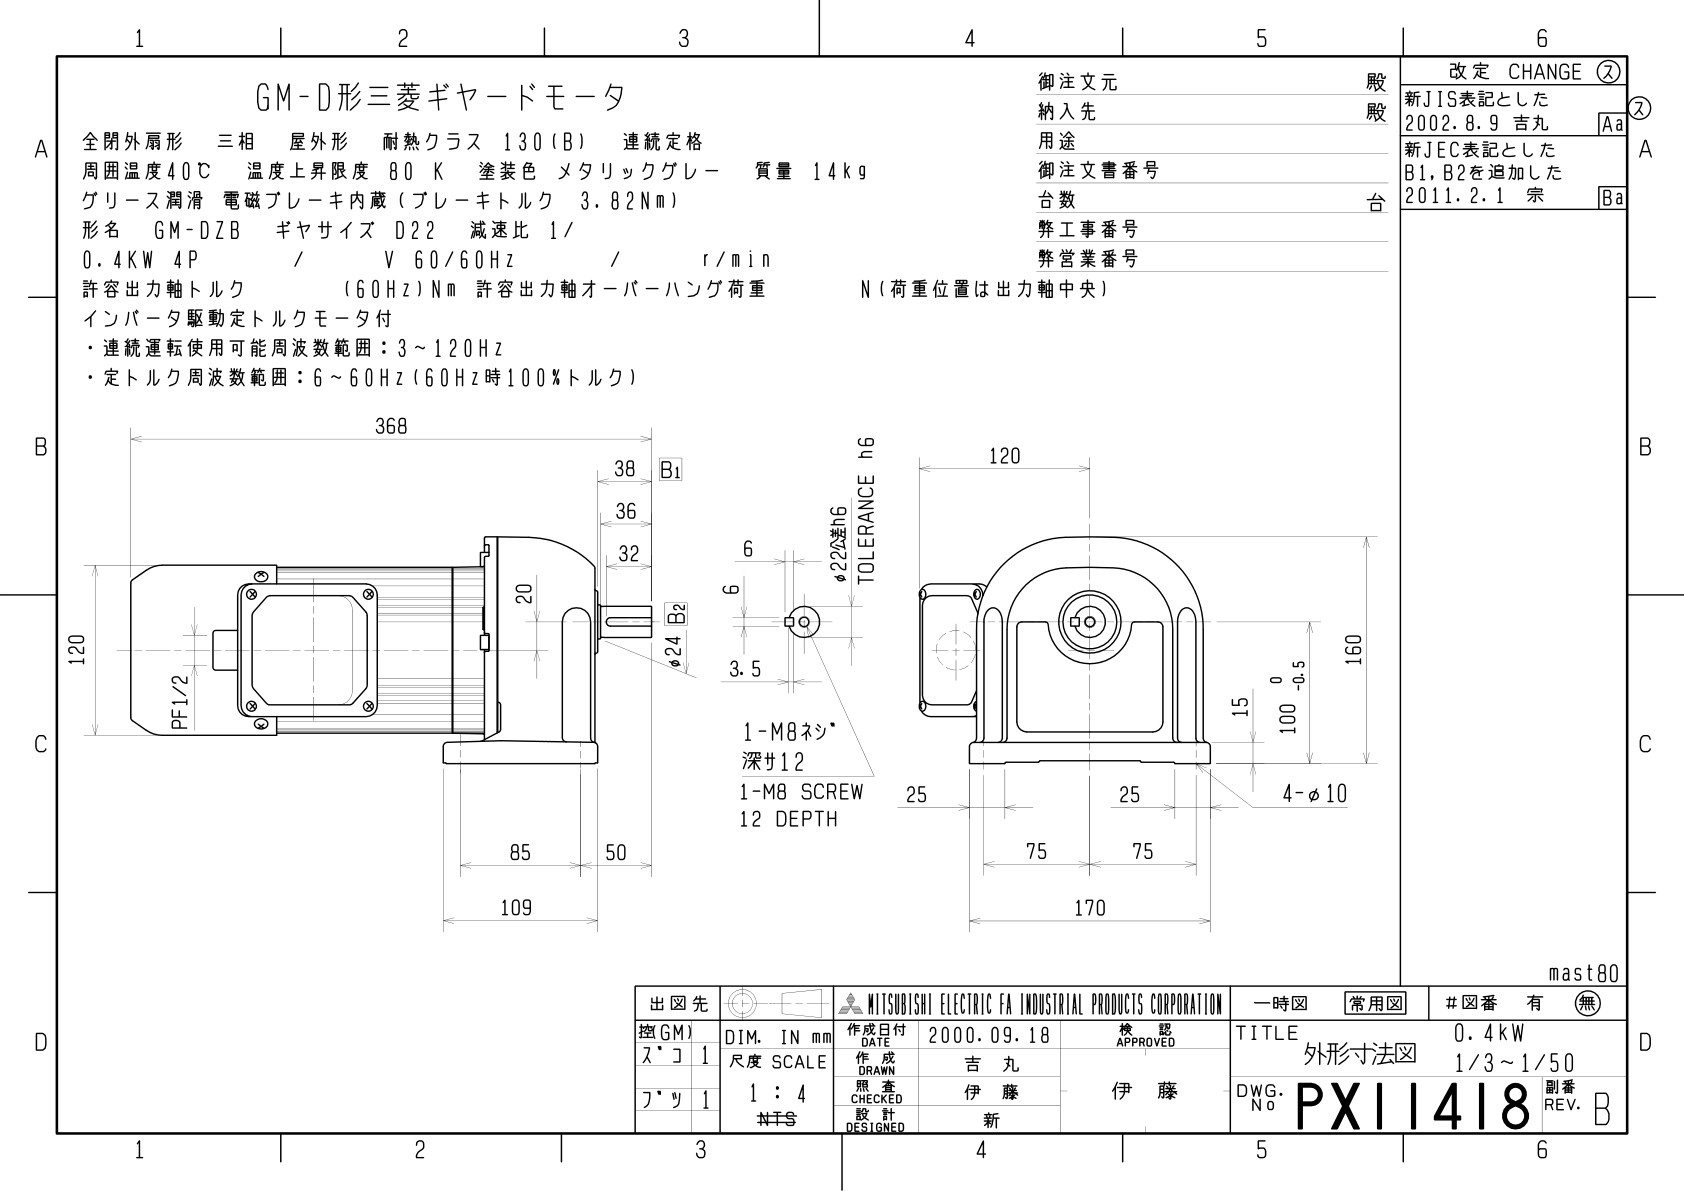GM_D_インバータ屋外_三相_脚: (63, 403, 1375, 951)
